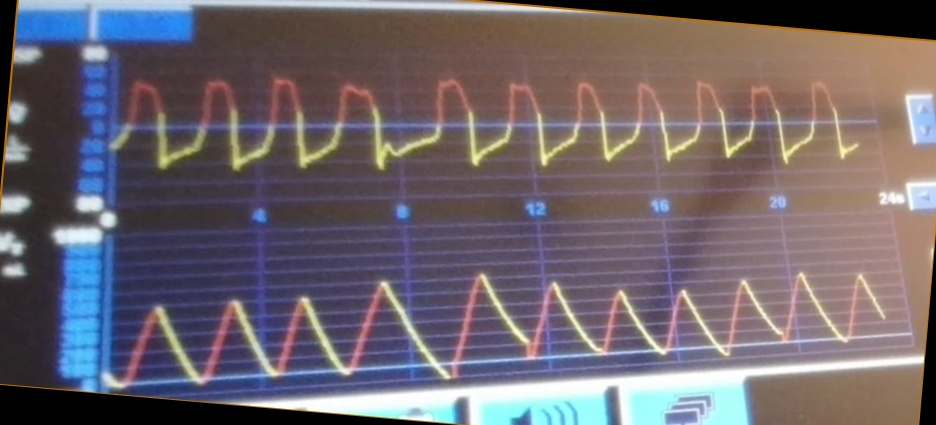Premature_cycling Flow: (119, 64, 857, 181)
Premature_cycling Volume: (114, 268, 885, 384)
